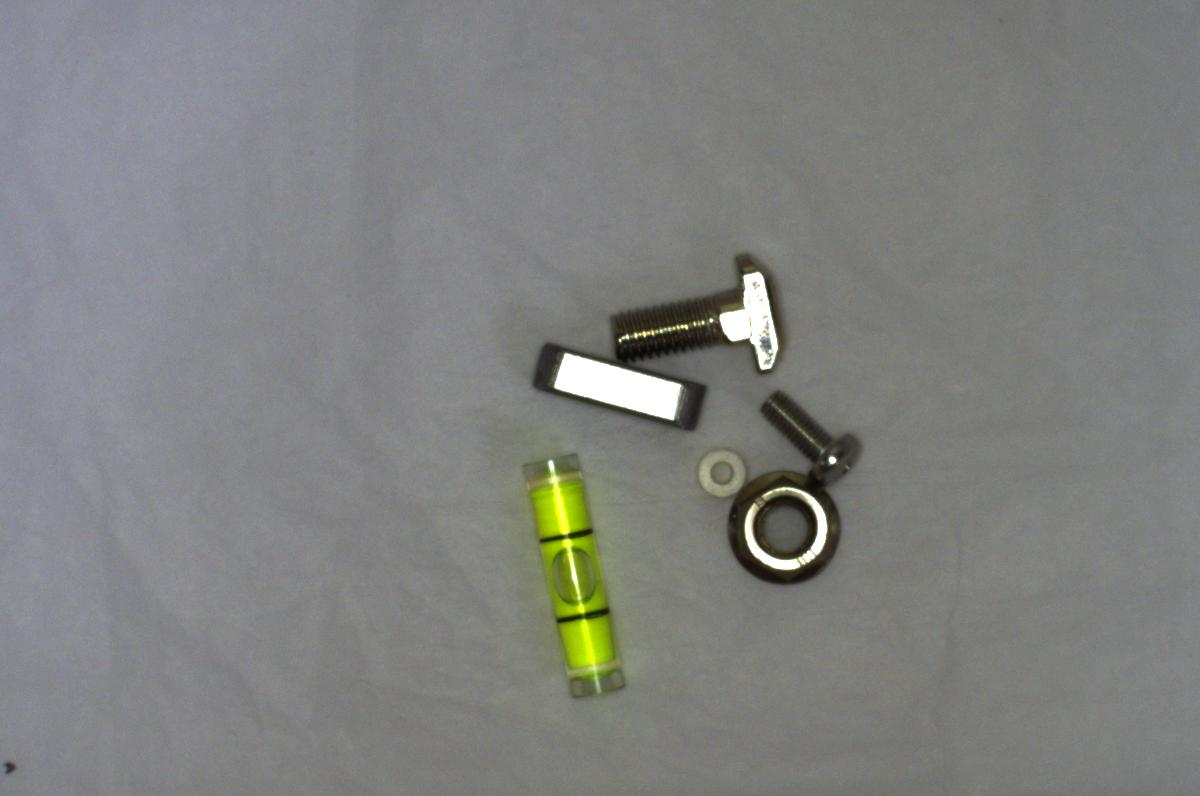Flange nut: (715, 466, 851, 585)
Horizontal bubble: (512, 442, 632, 720)
Keybar: (519, 341, 727, 434)
Plastic cushion pillar: (690, 447, 752, 503)
Round head screw: (758, 386, 867, 483)
T-shaped screw: (605, 248, 792, 380)
